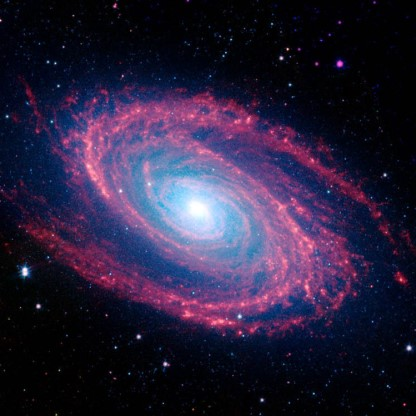Messier 81: (12, 56, 399, 337)
